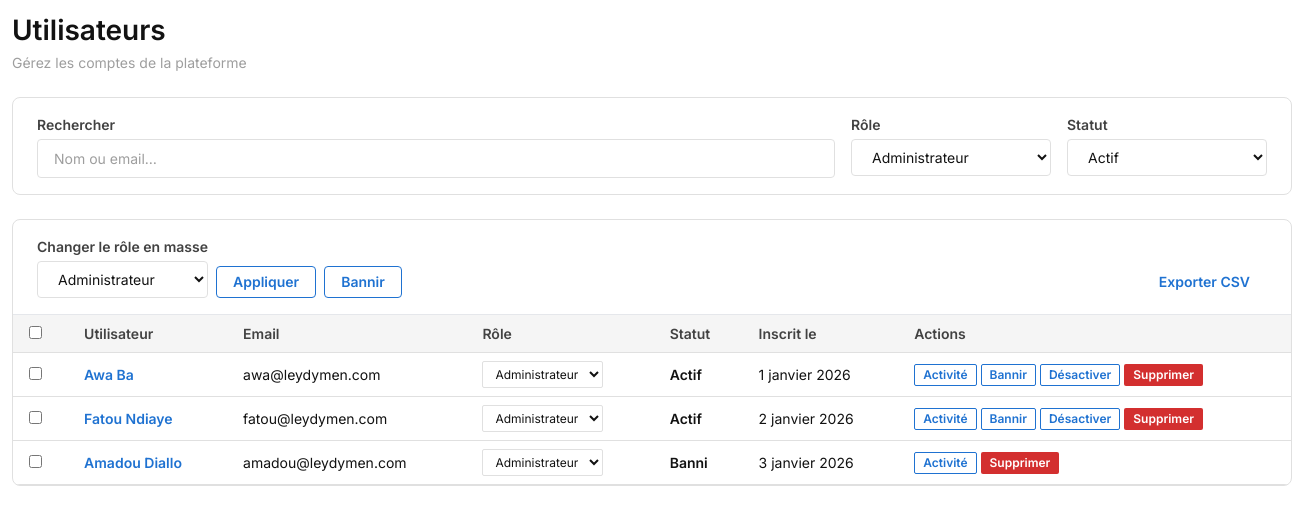
Test: AdminUsersComponent › should delete a user
Click the button "Supprimer" in the row of "Amadou Diallo": x=1020, y=463 [981,452,1059,474]
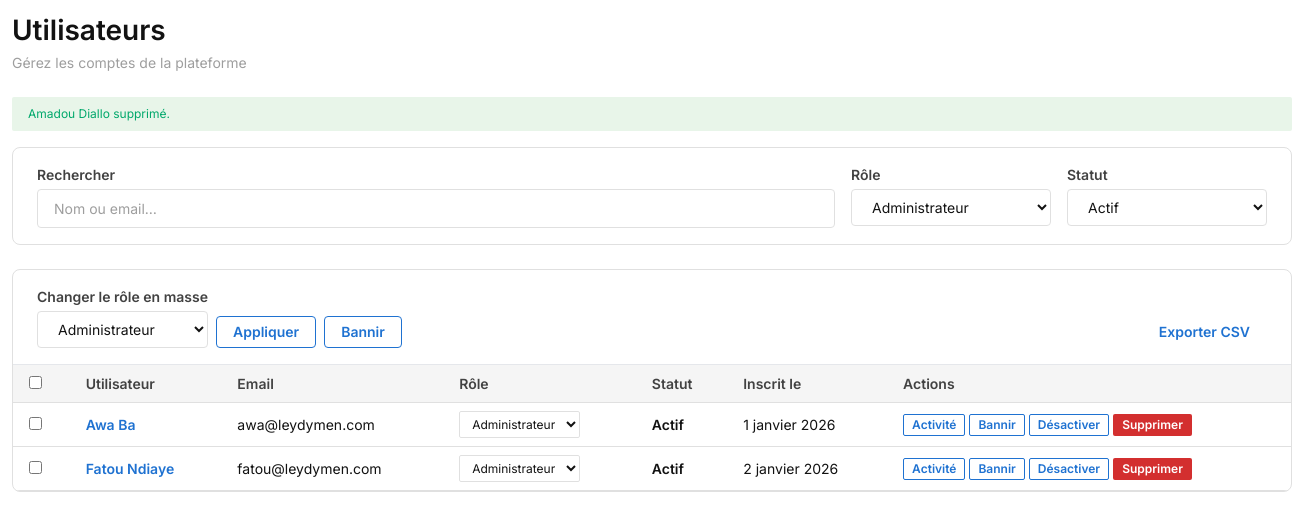
Result: the text "amadou@leydymen.com" is gone
